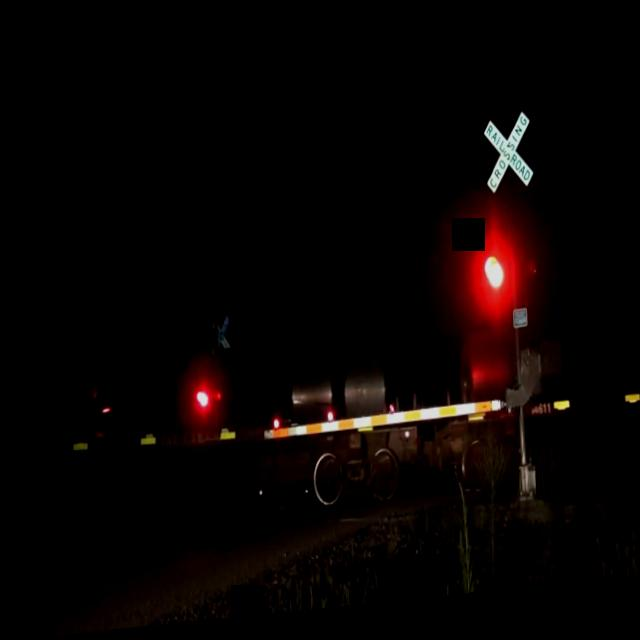tank: (21, 416, 422, 545)
